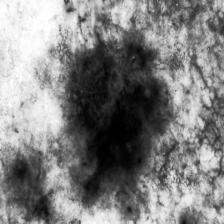Benign Marking or Mole: (37, 30, 165, 194)
